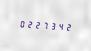four: (57, 20, 64, 32)
seven: (41, 19, 48, 31)
three: (49, 20, 56, 31)
two: (25, 18, 32, 30), (33, 19, 40, 30), (65, 21, 72, 32)
zero: (17, 18, 24, 29)
